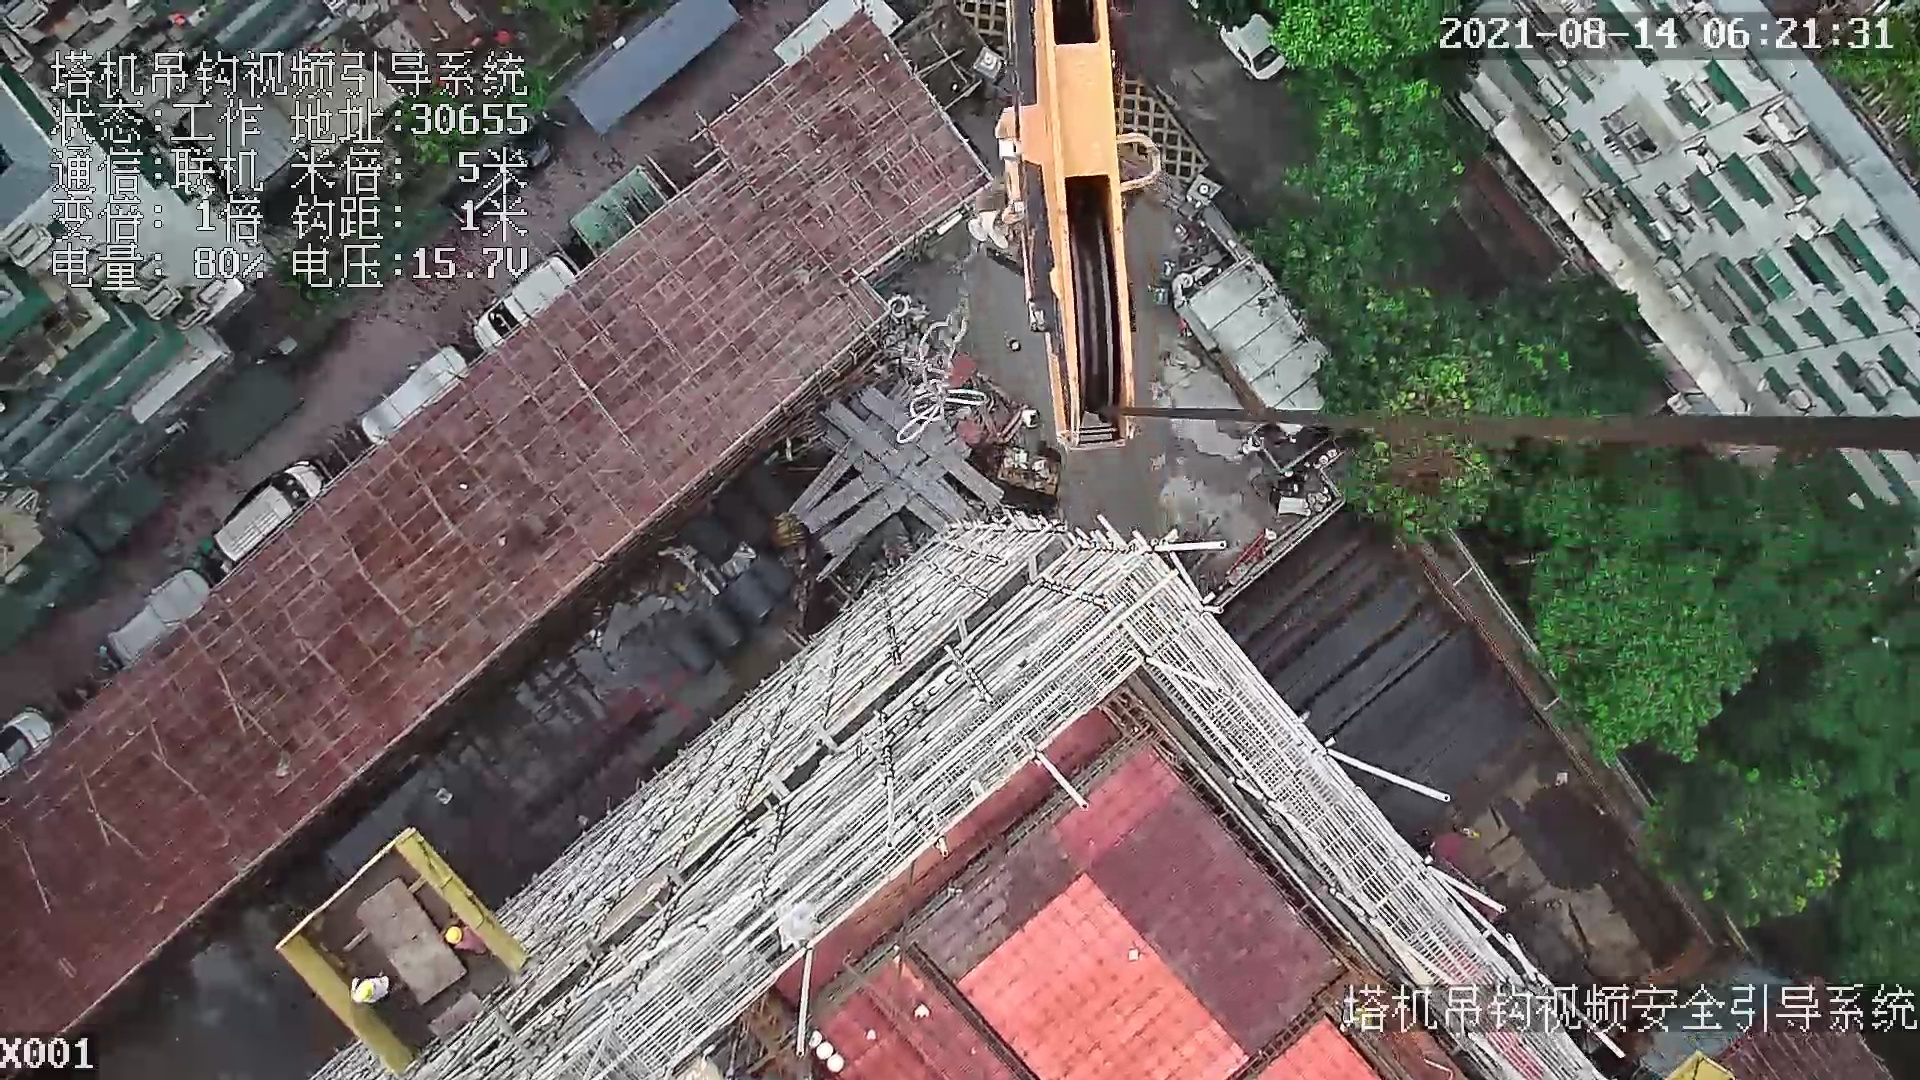helmet: (443, 926, 463, 946), (355, 985, 377, 999)
hook: (985, 1, 1168, 449)
person: (341, 969, 397, 999), (440, 926, 479, 953)
